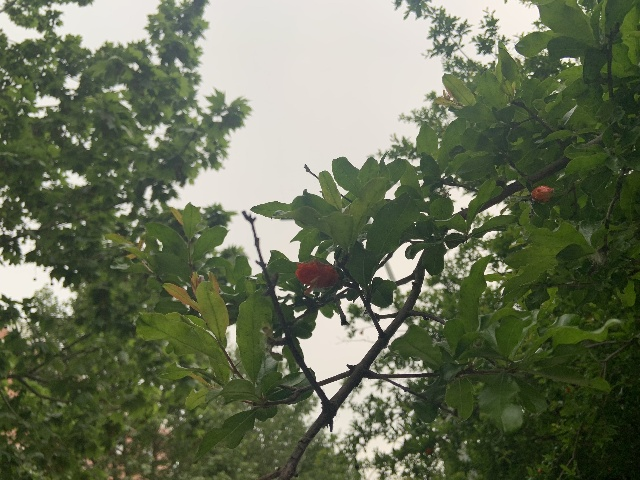bud: (530, 185, 554, 202)
flower: (295, 259, 339, 294)
